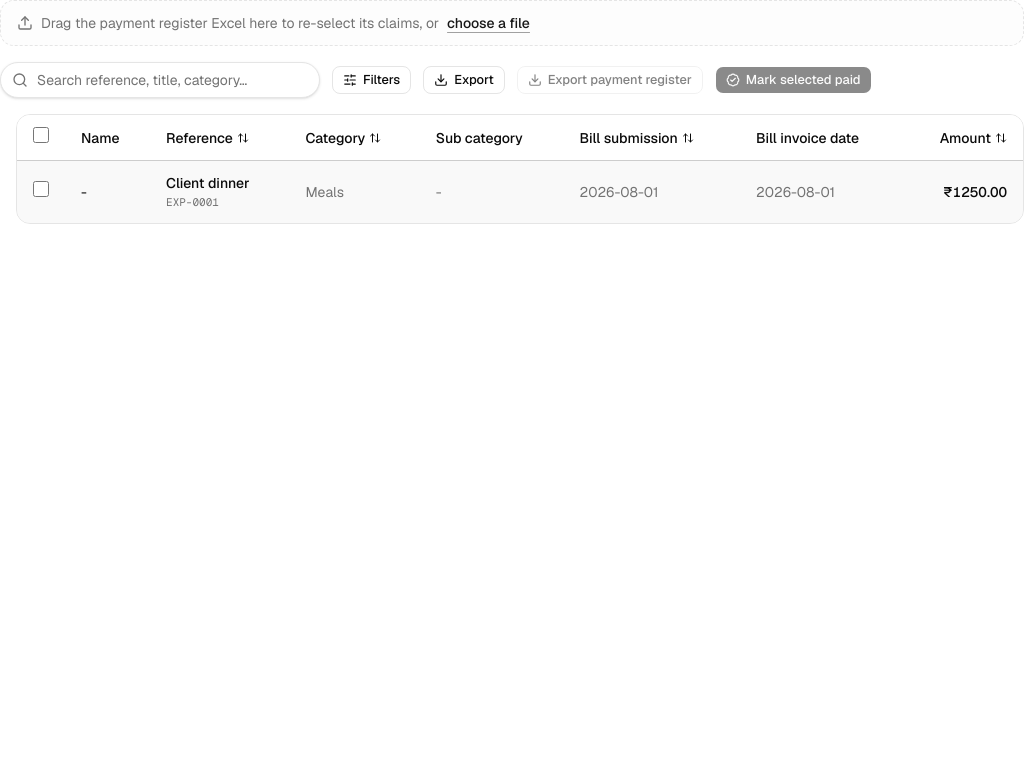
it: PaymentQueueTable Excel export › opens a popover with both export actions
The image size is (1024, 768).
Step 1. Click the button "Export" → click(464, 80), box [423, 66, 505, 94]
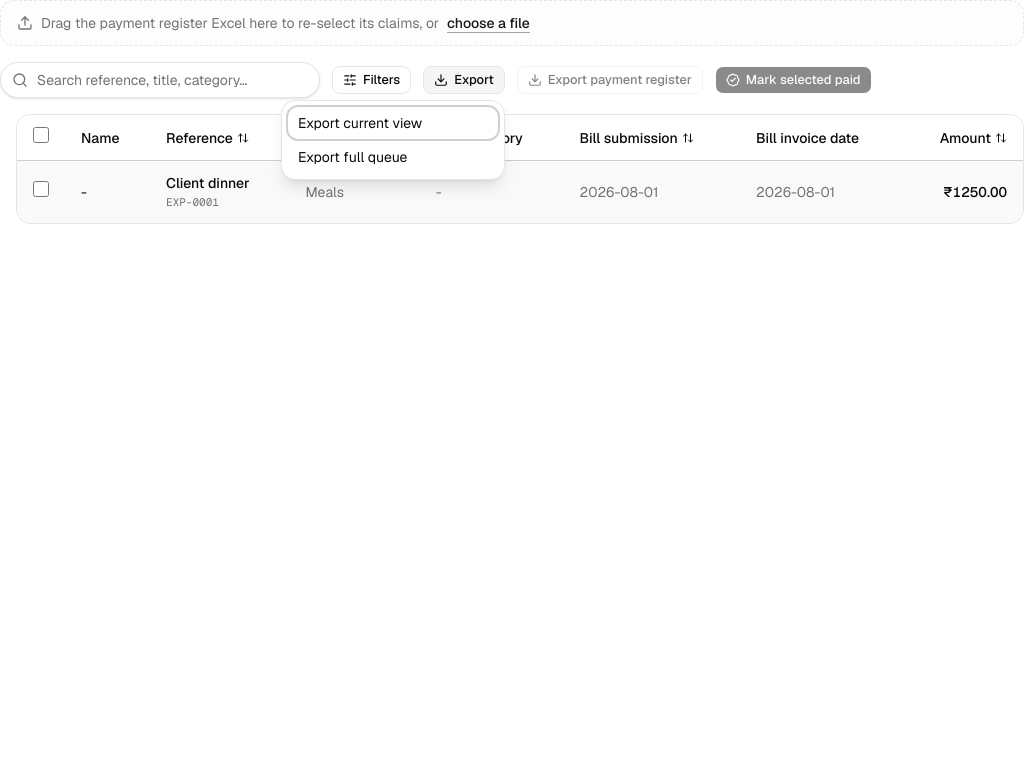
Expected: the button "Export current view" is shown, [288, 107, 498, 139]
Expected: the button "Export full queue" is shown, [288, 141, 498, 173]
